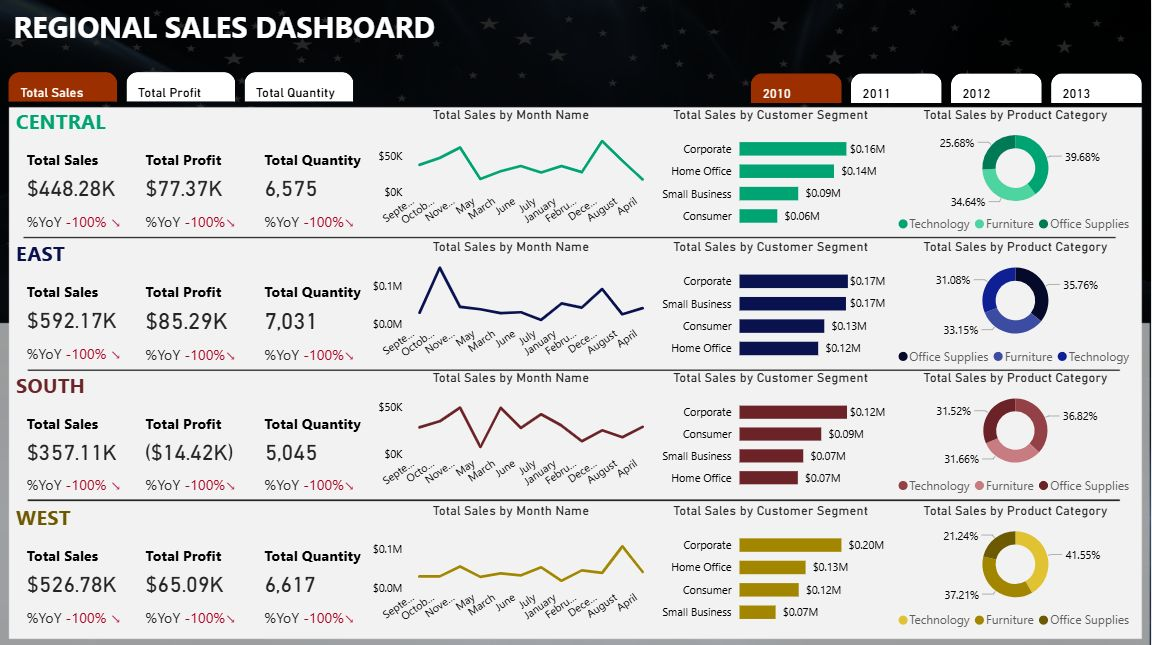

The dashboard page shown, as its layout file describes it:
{"tool":"powerbi","page":{"name":"Page 1","canvas":[1280,720],"ordinal":0},"visuals":[{"type":"cardVisual","title":"CENTRAL","fields":{"Data":["_Measures.Total Sales","_Measures.Total Profit","_Measures.Total Quantity"]},"box":[13.7,119,408.9,149.6],"z":0,"group":"g1"},{"type":"cardVisual","title":"EAST","fields":{"Data":["_Measures.Total Sales","_Measures.Total Profit","_Measures.Total Quantity"]},"box":[13.7,267.2,408.9,149.6],"z":0,"group":"g2"},{"type":"cardVisual","title":"SOUTH","fields":{"Data":["_Measures.Total Sales","_Measures.Total Profit","_Measures.Total Quantity"]},"box":[13.7,413,408.9,146.8],"z":0,"group":"g4"},{"type":"cardVisual","title":"WEST","fields":{"Data":["_Measures.Total Sales","_Measures.Total Profit","_Measures.Total Quantity"]},"box":[13.7,559.2,408.9,149.6],"z":0,"group":"g3"},{"type":"advancedSlicerVisual","fields":{"Values":["Parameter.Parameter"]},"box":[5.5,76.8,393.8,43.9],"z":1000},{"type":"lineChart","fields":{"Y":["_Measures.Total Sales"],"Category":["DateTable.Month Name"]},"box":[407.5,267.2,321.1,144.1],"z":1000,"group":"g2"},{"type":"lineChart","fields":{"Y":["_Measures.Total Sales"],"Category":["DateTable.Month Name"]},"box":[407.5,413,321.1,141.4],"z":1000,"group":"g4"},{"type":"lineChart","fields":{"Y":["_Measures.Total Sales"],"Category":["DateTable.Month Name"]},"box":[407.5,559.2,321.1,144.1],"z":1000,"group":"g3"},{"type":"lineChart","fields":{"Y":["_Measures.Total Sales"],"Category":["DateTable.Month Name"]},"box":[407.5,119,321.1,144.1],"z":2000,"group":"g1"},{"type":"barChart","fields":{"Y":["_Measures.Total Sales"],"Category":["Orders.Customer Segment"]},"box":[724.5,267.2,264.8,145.5],"z":2000,"group":"g2"},{"type":"barChart","fields":{"Y":["_Measures.Total Sales"],"Category":["Orders.Customer Segment"]},"box":[724.5,413,264.8,142.8],"z":2000,"group":"g4"},{"type":"barChart","fields":{"Y":["_Measures.Total Sales"],"Category":["Orders.Customer Segment"]},"box":[724.5,559.2,264.8,145.5],"z":2000,"group":"g3"},{"type":"barChart","fields":{"Category":["Orders.Customer Segment"],"Y":["_Measures.Total Sales"]},"box":[724.5,119,264.8,145.5],"z":2001,"group":"g1"},{"type":"donutChart","fields":{"Y":["_Measures.Total Sales"],"Category":["Orders.Product Category"]},"box":[989.3,119,281.3,149.6],"z":2002,"group":"g1"},{"type":"group","id":"g1","title":"Group 1","box":[13.7,119,1257,149.6],"z":2003},{"type":"group","id":"g2","title":"Group 1","box":[13.7,267.2,1257,149.6],"z":2004},{"type":"group","id":"g3","title":"Group 1","box":[13.7,559.2,1257,149.6],"z":2005},{"type":"group","id":"g4","title":"Group 1","box":[13.7,413,1257,146.8],"z":2006},{"type":"textbox","box":[11,4.1,524.2,72.7],"z":2007},{"type":"advancedSlicerVisual","fields":{"Values":["DateTable.Year"]},"box":[830.2,78.2,444.6,43.9],"z":2008},{"type":"donutChart","fields":{"Y":["_Measures.Total Sales"],"Category":["Orders.Product Category"]},"box":[989.3,267.2,281.3,149.6],"z":3000,"group":"g2"},{"type":"donutChart","fields":{"Y":["_Measures.Total Sales"],"Category":["Orders.Product Category"]},"box":[989.3,413,281.3,146.8],"z":3000,"group":"g4"},{"type":"donutChart","fields":{"Y":["_Measures.Total Sales"],"Category":["Orders.Product Category"]},"box":[989.3,559.2,281.3,149.6],"z":3000,"group":"g3"}]}

Visuals, with their boxes in screenshot pixels (x1, y1, x2, y2), scaled from the page's 1280x720 canvas onto the 1152x645 screenshot:
"CENTRAL" cardVisual: locate(12, 107, 380, 241)
"EAST" cardVisual: locate(12, 239, 380, 373)
"SOUTH" cardVisual: locate(12, 370, 380, 501)
"WEST" cardVisual: locate(12, 501, 380, 635)
advancedSlicerVisual - Parameter.Parameter: locate(5, 69, 359, 108)
lineChart - _Measures.Total Sales x DateTable.Month Name: locate(367, 239, 656, 368)
lineChart - _Measures.Total Sales x DateTable.Month Name: locate(367, 370, 656, 497)
lineChart - _Measures.Total Sales x DateTable.Month Name: locate(367, 501, 656, 630)
lineChart - _Measures.Total Sales x DateTable.Month Name: locate(367, 107, 656, 236)
barChart - _Measures.Total Sales x Orders.Customer Segment: locate(652, 239, 890, 370)
barChart - _Measures.Total Sales x Orders.Customer Segment: locate(652, 370, 890, 498)
barChart - _Measures.Total Sales x Orders.Customer Segment: locate(652, 501, 890, 631)
barChart - Orders.Customer Segment x _Measures.Total Sales: locate(652, 107, 890, 237)
donutChart - _Measures.Total Sales x Orders.Product Category: locate(890, 107, 1144, 241)
"Group 1" group: locate(12, 107, 1144, 241)
"Group 1" group: locate(12, 239, 1144, 373)
"Group 1" group: locate(12, 501, 1144, 635)
"Group 1" group: locate(12, 370, 1144, 501)
textbox: locate(10, 4, 482, 69)
advancedSlicerVisual - DateTable.Year: locate(747, 70, 1147, 109)
donutChart - _Measures.Total Sales x Orders.Product Category: locate(890, 239, 1144, 373)
donutChart - _Measures.Total Sales x Orders.Product Category: locate(890, 370, 1144, 501)
donutChart - _Measures.Total Sales x Orders.Product Category: locate(890, 501, 1144, 635)
